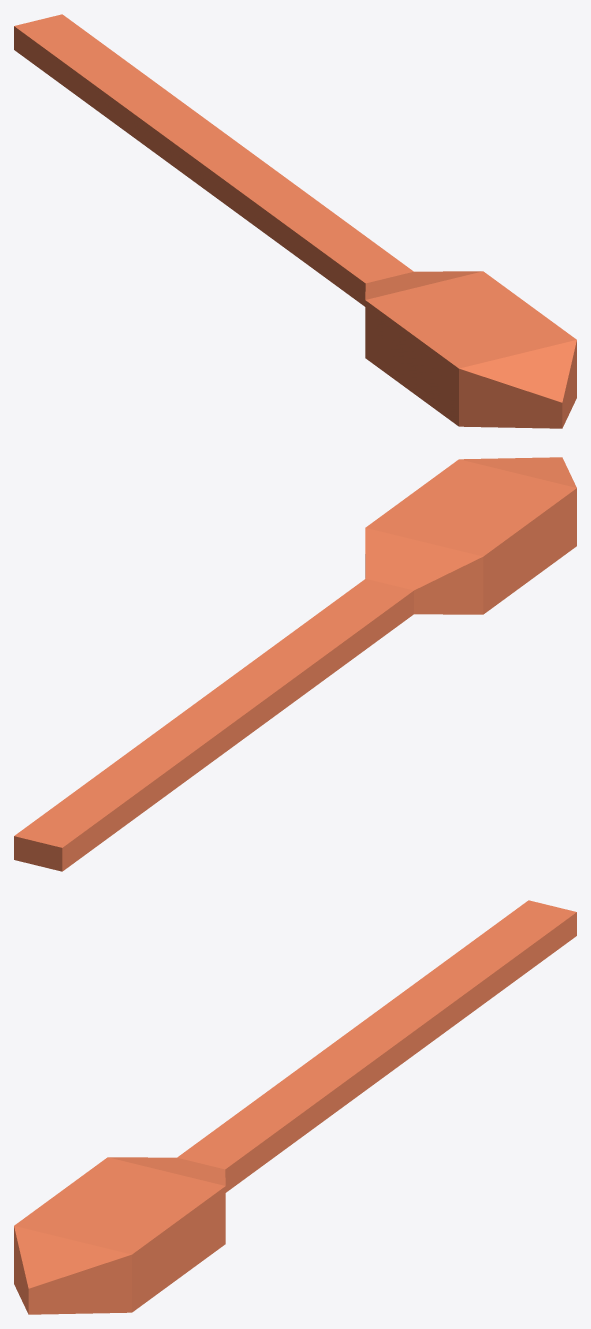
File: canoe_paddle.glb
The picture shows the model from 3 angles, top to bottom: view 1: azimuth 30°, elevation 25°; view 2: azimuth 150°, elevation 25°; view 3: azimuth 330°, elevation 25°; orthographic projection.
Visible parts, largest first — view 1: canoe_paddle; view 2: canoe_paddle; view 3: canoe_paddle.
Part boxes in pixels (left/top/right/bottom): canoe_paddle: left=14, top=14, right=576, bottom=428; canoe_paddle: left=14, top=457, right=576, bottom=871; canoe_paddle: left=14, top=900, right=576, bottom=1314.
Size of the model in its own units: 0.0767 by 0.0361 by 0.5902.
